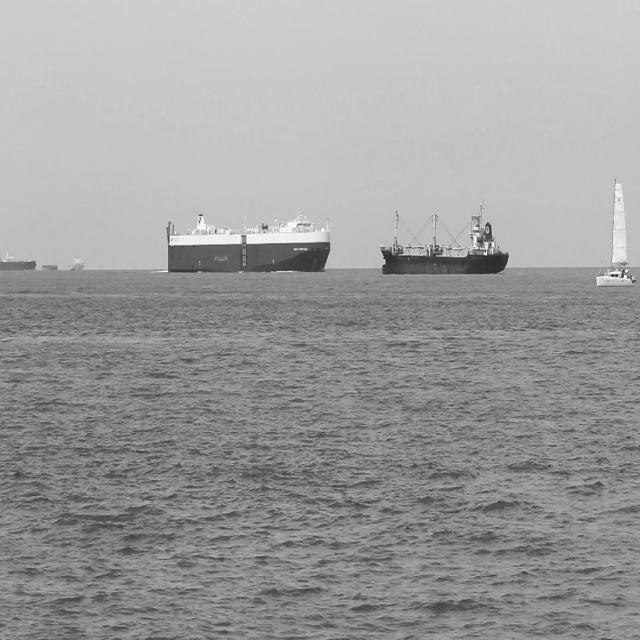boat: (592, 171, 638, 290)
ship: (163, 204, 333, 276), (375, 196, 511, 279), (0, 248, 40, 274), (68, 250, 84, 274)
